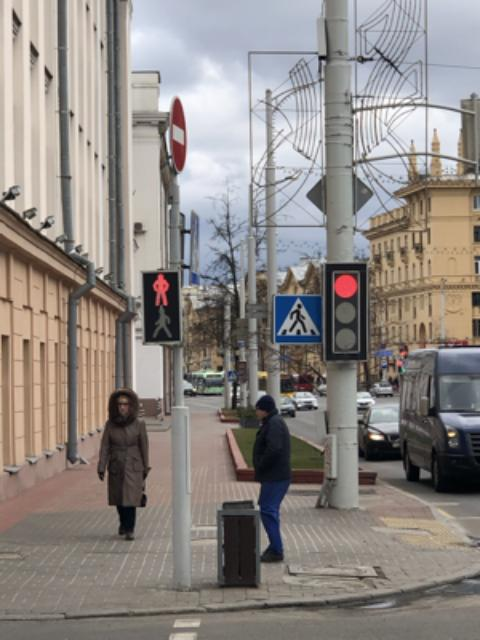crosswalk-sign: (272, 293, 323, 345)
